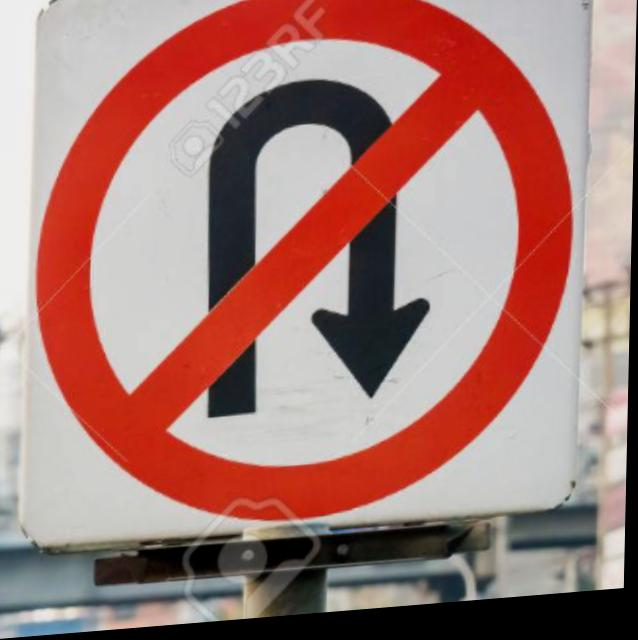not_u_turn_right: (32, 0, 580, 539)
